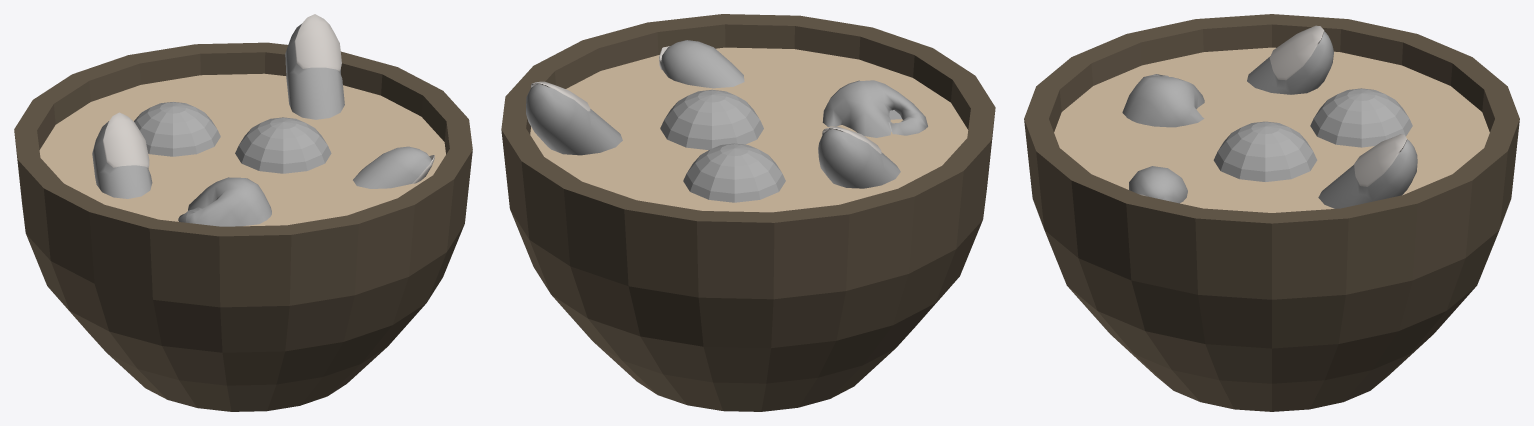
Rendered from Sopa_Dedos.fbx.
The picture shows the model from 3 angles, left to right: view 1: azimuth 30°, elevation 25°; view 2: azimuth 150°, elevation 25°; view 3: azimuth 270°, elevation 25°; orthographic projection. The views are drawn at different scales.
Parts seen in each view (by area): view 1: Sopa_Dedos, sopa_liquido, dedo1, cogu1, dedo, cogu, nariz, dedo2; view 2: Sopa_Dedos, sopa_liquido, dedo1, cogu1, cogu, nariz, dedo, dedo2; view 3: Sopa_Dedos, sopa_liquido, cogu1, cogu, dedo1, dedo, nariz, dedo2.
Part boxes in pixels (x1,y1,x2,y2): Sopa_Dedos: (14, 42, 472, 411); sopa_liquido: (39, 73, 445, 226); dedo1: (285, 14, 344, 119); cogu1: (235, 117, 331, 173); dedo: (92, 112, 152, 198); cogu: (134, 102, 220, 156); nariz: (178, 177, 271, 226); dedo2: (353, 146, 434, 188); Sopa_Dedos: (501, 14, 995, 411); sopa_liquido: (530, 47, 968, 212); dedo1: (526, 81, 622, 155); cogu1: (660, 89, 763, 150); cogu: (683, 143, 785, 202); nariz: (822, 80, 927, 137); dedo: (818, 126, 900, 188); dedo2: (659, 40, 744, 88); Sopa_Dedos: (1024, 14, 1519, 411); sopa_liquido: (1054, 47, 1489, 212); cogu1: (1213, 121, 1317, 181); cogu: (1310, 88, 1412, 147); dedo1: (1318, 134, 1417, 208); dedo: (1247, 25, 1333, 94); nariz: (1122, 74, 1204, 127); dedo2: (1129, 166, 1187, 203).
Bounding box in the file's own units: 3.83 × 2.49 × 3.83.
